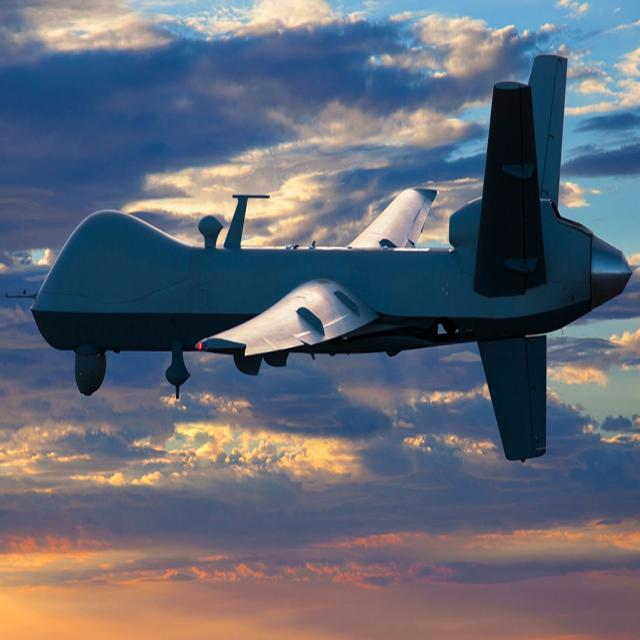MQ9: (6, 39, 635, 536)
